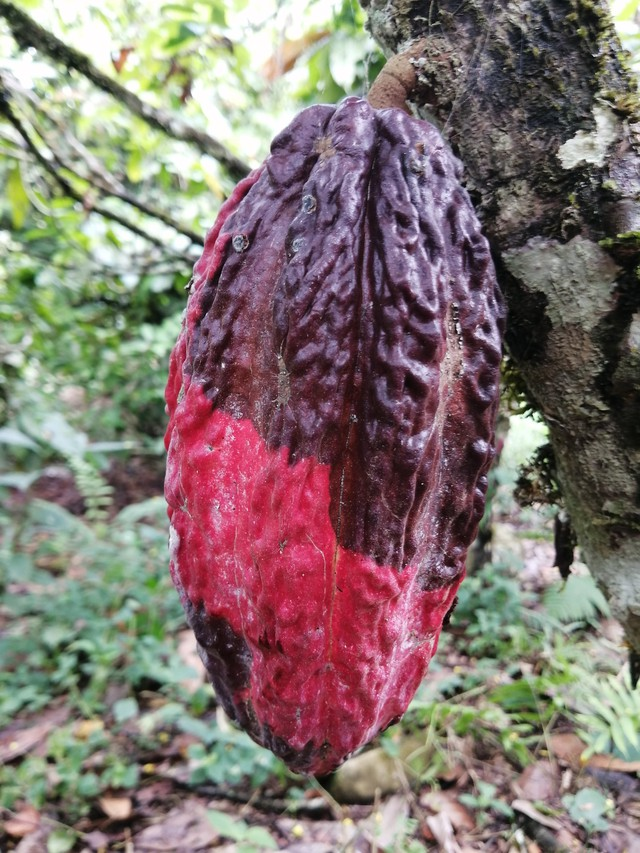phytophthora palmivora: (136, 82, 522, 790)
